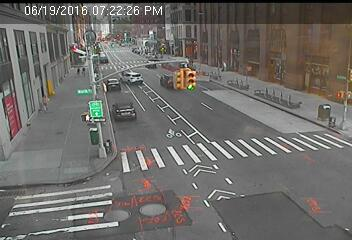neg: (294, 39, 318, 72), (278, 149, 302, 181), (259, 76, 282, 105), (234, 23, 254, 50), (171, 175, 190, 201), (122, 116, 140, 140), (38, 167, 56, 190), (211, 129, 228, 153), (203, 173, 220, 197), (103, 162, 120, 185), (148, 15, 165, 37), (243, 171, 260, 193), (249, 127, 266, 149), (9, 71, 25, 93), (57, 173, 73, 195), (34, 37, 50, 58), (193, 93, 208, 114), (162, 139, 177, 159), (18, 124, 33, 144), (126, 201, 141, 220), (107, 17, 121, 36), (68, 14, 82, 33), (158, 82, 172, 100), (39, 127, 53, 145), (307, 106, 321, 124), (78, 190, 90, 207), (29, 98, 41, 112), (67, 144, 78, 159), (211, 26, 222, 40)
pos: (78, 63, 87, 76), (74, 66, 83, 78)
